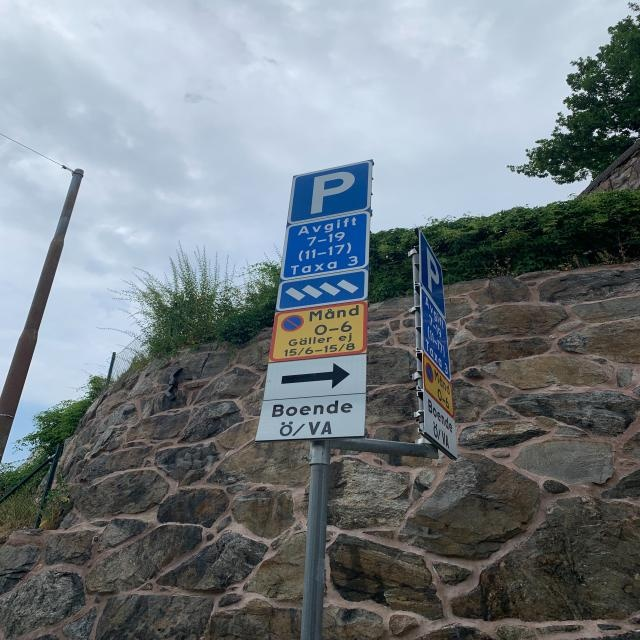avstignnigsplats: (286, 160, 374, 224), (419, 232, 448, 318)
